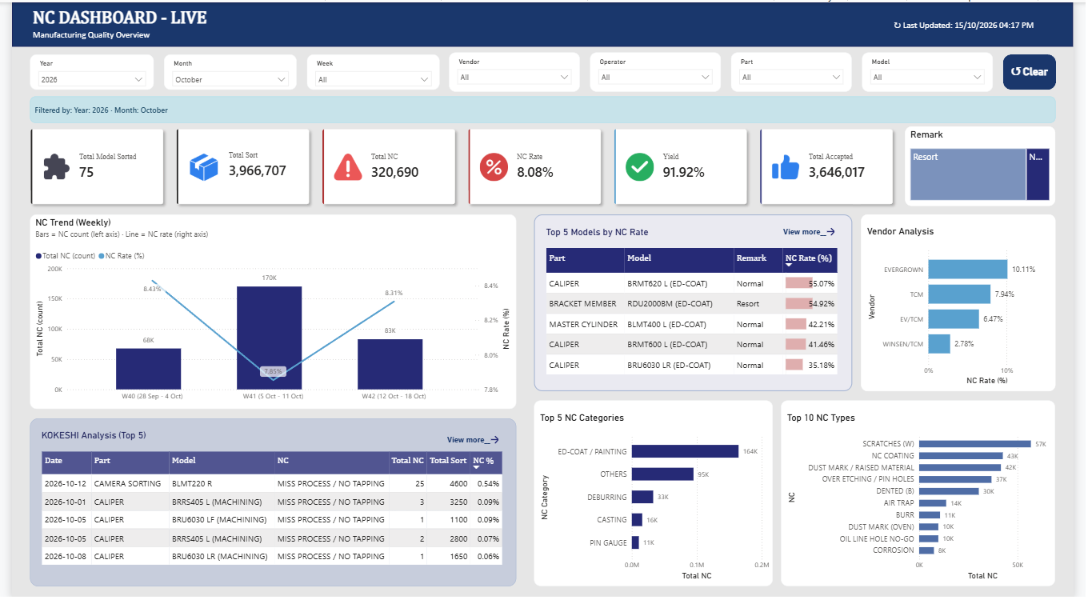

This screenshot's page, from the dashboard's own definition file:
{"tool":"powerbi","page":{"name":"Overview","canvas":[1920,1080],"ordinal":0},"visuals":[{"type":"shape","box":[0,-8,288,1088],"z":0},{"type":"slicer","fields":{"Values":["DimDate.Year"]},"box":[19.4,300.7,240,64],"z":1000},{"type":"slicer","fields":{"Values":["DimDate.Month"]},"box":[19.4,398.3,240,64],"z":2000},{"type":"slicer","fields":{"Values":["DimDate.Week00"]},"box":[19.4,495.9,240,64],"z":3000},{"type":"slicer","fields":{"Values":["NC Report.Vendor"]},"box":[19.4,593.5,240,64],"z":4000},{"type":"slicer","fields":{"Values":["NC Report.Operator"]},"box":[19.4,691.1,240,64],"z":5000},{"type":"slicer","fields":{"Values":["NC Report.Component"]},"box":[19.4,788.7,240,64],"z":6000},{"type":"slicer","fields":{"Values":["NC Report.Model"]},"box":[19.4,886.3,240,64],"z":7000},{"type":"cardVisual","fields":{"Data":["NC Report.Total","Sum(NC Report.NC Quantity)","NC Report.NC Rate","NC Report.Total Accepted","NC Report.Yield Rate"]},"box":[288,48,240,1024],"z":8000},{"type":"slicer","fields":{"Values":["NC Report.Remark"]},"box":[19.4,983.9,240,64],"z":10000},{"type":"textSearchSlicerF85E2E78BE4A4D7D9F99ED75B5D71C85","fields":{"fields":["NC Report.Reference No","NC Report.NC Type"]},"box":[3.4,192,272,112],"z":12000},{"type":"clusteredBarChart","title":"NC Breakdown by Category","fields":{"Category":["NC Report.NC Category","NC Report.NC Type"],"Y":["NC Report.NC Rate"]},"box":[1472,424.7,432,288],"z":13000},{"type":"cardVisual","fields":{"Data":["DimDate.Filter Summary"]},"box":[288,0,1632,48],"z":16000},{"type":"textbox","box":[16,32,256,160],"z":18000},{"type":"lineClusteredColumnComboChart","title":"NC Trend (Weekly)","fields":{"Category":["DimDate.Month","DimDate.WeekLabel","DimDate.Date"],"Y":["Sum(NC Report.NC Quantity)"],"Y2":["NC Report.NC Rate"]},"box":[528,64,816,352],"z":18500},{"type":"donutChart","title":"Parts with KOKESHI NC","fields":{"Category":["NC Report.Part","NC Report.Model"],"Y":["NC Report.NC Rate"]},"box":[1360,64,544,352],"z":19000},{"type":"clusteredBarChart","title":"Vendor Analysis","fields":{"Category":["NC Report.Vendor"],"Y":["NC Report.NC Rate"]},"box":[528,424.7,368,288],"z":19500},{"type":"tableEx","title":"Top 5 Models by NC Rate","fields":{"Values":["NC Report.Part","NC Report.Model","NC Report.Remark","NC Report.NC Rate"]},"box":[912,424.7,544,288],"z":20000},{"type":"tableEx","fields":{"Values":["NC Report.Reference No","NC Report.Part","NC Report.Model","NC Report.Vendor","NC Report.Lot","NC Report.NC Category","NC Report.NC Type","NC Report.Remark","NC Report.Total","Sum(NC Report.NC Quantity)","NC Report.NC Rate"]},"box":[528,720,1376,336],"z":20500}]}

Visuals, with their boxes in screenshot pixels (x1, y1, x2, y2), scaled from the page's 1920x1080 canvas onto the 1086x597 screenshot:
shape: BBox(0, 0, 163, 596)
slicer - DimDate.Year: BBox(11, 166, 147, 202)
slicer - DimDate.Month: BBox(11, 220, 147, 256)
slicer - DimDate.Week00: BBox(11, 274, 147, 310)
slicer - NC Report.Vendor: BBox(11, 328, 147, 363)
slicer - NC Report.Operator: BBox(11, 382, 147, 417)
slicer - NC Report.Component: BBox(11, 436, 147, 471)
slicer - NC Report.Model: BBox(11, 490, 147, 525)
cardVisual - NC Report.Total x Sum(NC Report.NC Quantity): BBox(163, 27, 299, 593)
slicer - NC Report.Remark: BBox(11, 544, 147, 579)
textSearchSlicerF85E2E78BE4A4D7D9F99ED75B5D71C85 - NC Report.Reference No x NC Report.NC Type: BBox(2, 106, 156, 168)
"NC Breakdown by Category" clusteredBarChart: BBox(833, 235, 1077, 394)
cardVisual - DimDate.Filter Summary: BBox(163, 0, 1085, 27)
textbox: BBox(9, 18, 154, 106)
"NC Trend (Weekly)" lineClusteredColumnComboChart: BBox(299, 35, 760, 230)
"Parts with KOKESHI NC" donutChart: BBox(769, 35, 1077, 230)
"Vendor Analysis" clusteredBarChart: BBox(299, 235, 507, 394)
"Top 5 Models by NC Rate" tableEx: BBox(516, 235, 824, 394)
tableEx - NC Report.Reference No x NC Report.Part: BBox(299, 398, 1077, 584)
